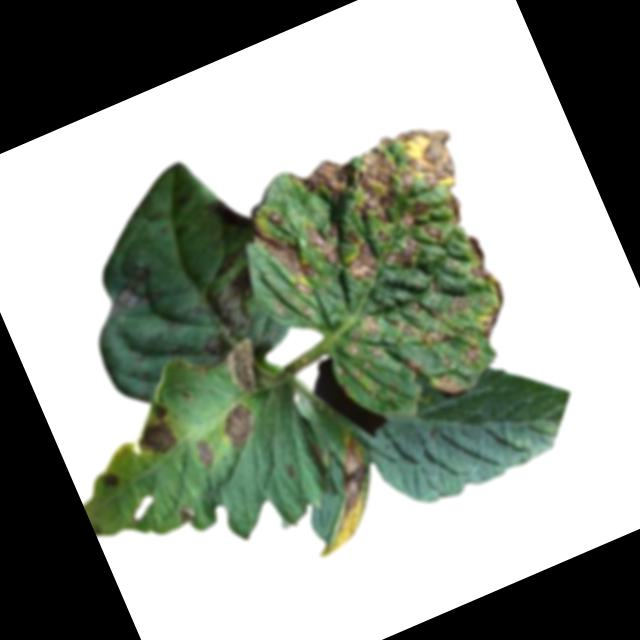Early_blight: (223, 104, 547, 448), (280, 436, 397, 561), (188, 265, 271, 346), (90, 264, 164, 326), (126, 401, 186, 464), (216, 333, 271, 399), (210, 400, 260, 452), (212, 194, 253, 242), (191, 436, 221, 473), (94, 467, 124, 497), (175, 501, 201, 528)
